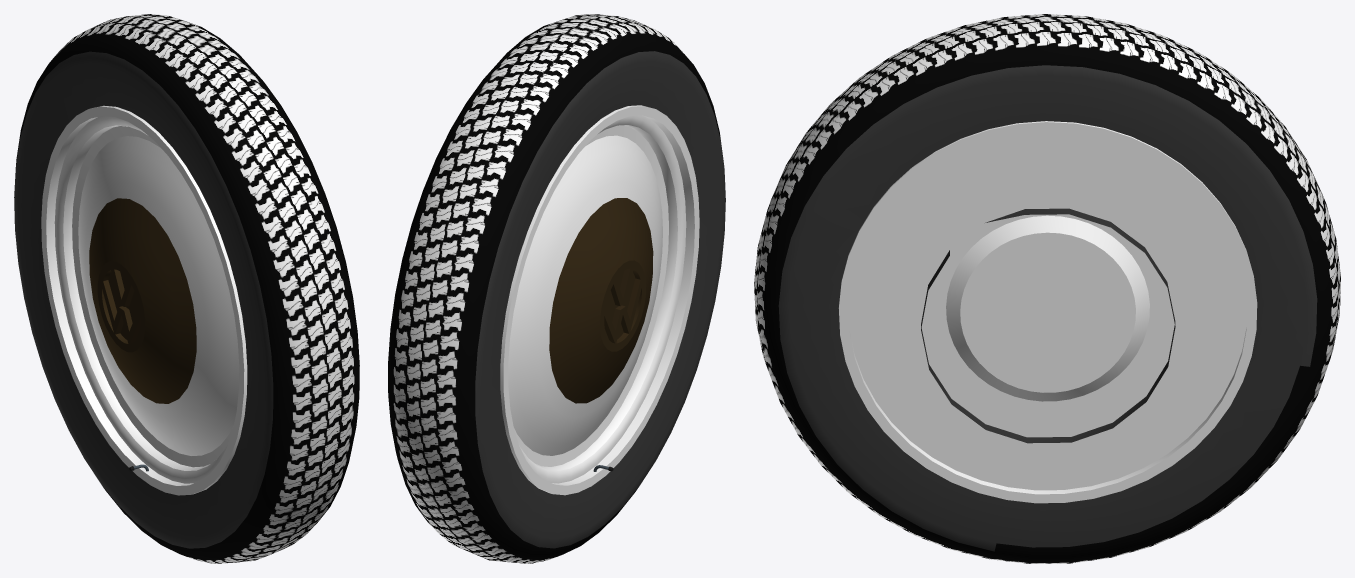
The model's file is cochellantadelanteizq.obj.
3 views of the same model, side by side, from view 1: azimuth 30°, elevation 25°; view 2: azimuth 150°, elevation 25°; view 3: azimuth 270°, elevation 25° (orthographic). The views are drawn at different scales.
Parts seen in each view (by area): view 1: VWBeetle.001_Picture, VWBeetle.001_white, VWBeetle.001_Grey, VWBeetle.001_crome; view 2: VWBeetle.001_Picture, VWBeetle.001_white, VWBeetle.001_Grey, VWBeetle.001_crome; view 3: VWBeetle.001_white, VWBeetle.001_Grey, VWBeetle.001_Picture, VWBeetle.001_Black0.
Boxes of the visible parts, bbox=[...] form: VWBeetle.001_Picture: bbox=[16, 14, 359, 563]; VWBeetle.001_white: bbox=[41, 105, 247, 495]; VWBeetle.001_Grey: bbox=[14, 51, 273, 548]; VWBeetle.001_crome: bbox=[89, 198, 196, 403]; VWBeetle.001_Picture: bbox=[388, 14, 724, 563]; VWBeetle.001_white: bbox=[500, 105, 699, 495]; VWBeetle.001_Grey: bbox=[475, 51, 725, 548]; VWBeetle.001_crome: bbox=[549, 198, 653, 403]; VWBeetle.001_white: bbox=[838, 121, 1257, 503]; VWBeetle.001_Grey: bbox=[778, 65, 1317, 551]; VWBeetle.001_Picture: bbox=[754, 14, 1340, 563]; VWBeetle.001_Black0: bbox=[921, 208, 1175, 443].
Bounding box in the file's own units: 1.02 × 3.83 × 3.83.
